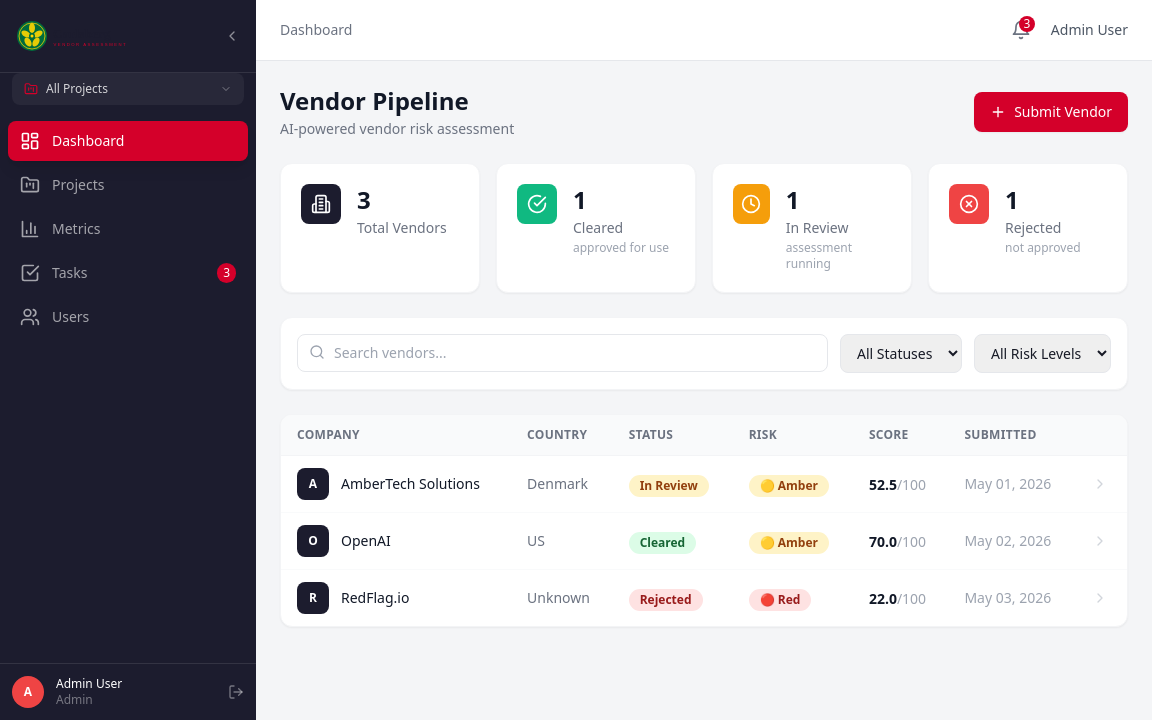
Scenario: DashboardPage › submit modal: advances to step 2 after lookup
The image size is (1152, 720).
Click the button "Submit Vendor": {"x": 1051, "y": 112} [974,92,1128,132]
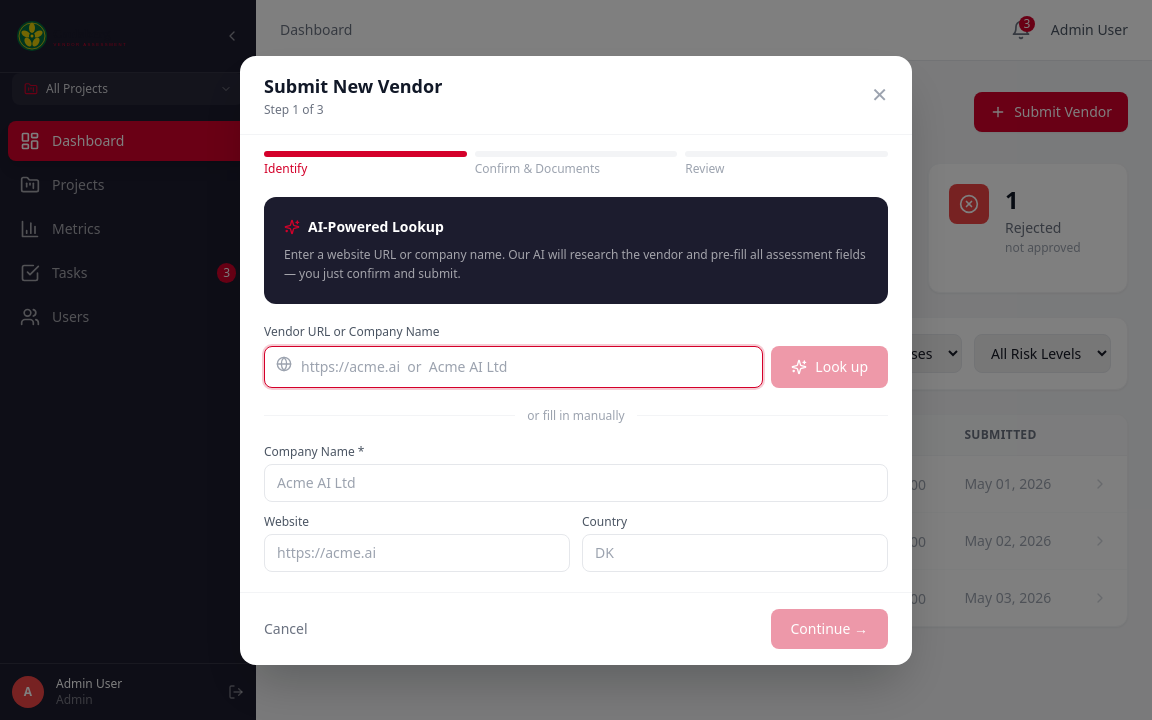
In the field with placeholder "Acme AI Ltd": {"x": 576, "y": 482} [264,464,888,502], type "TestCorp"
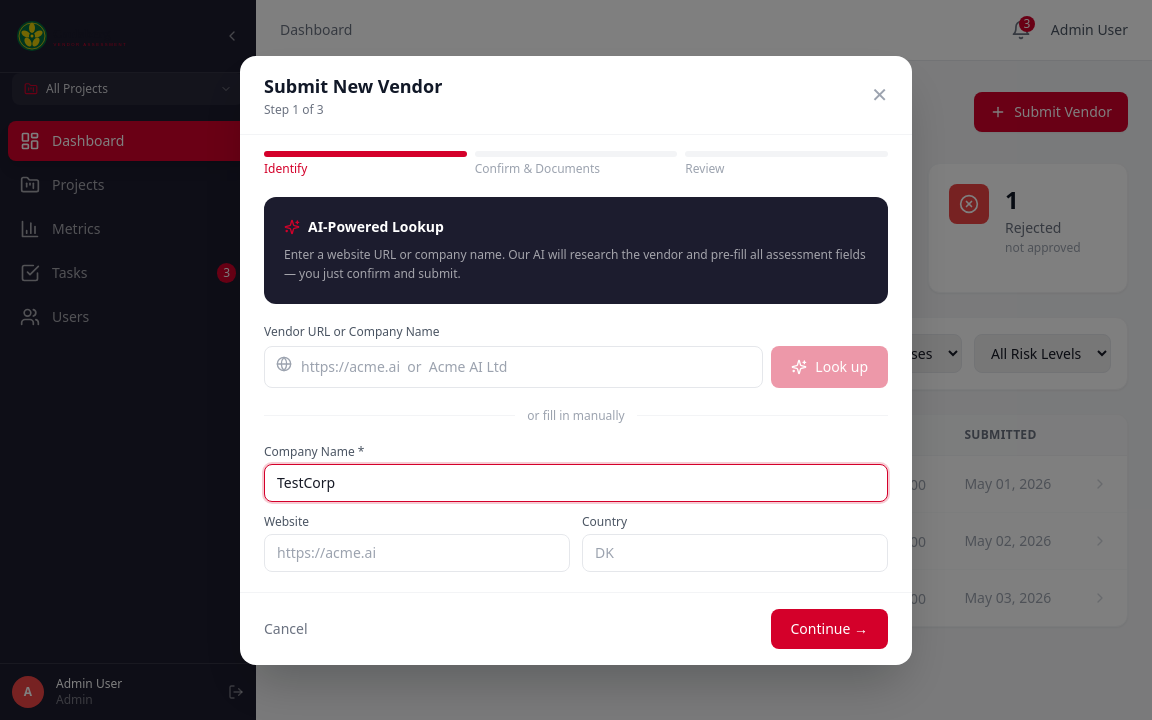
Click the button "Continue →": {"x": 829, "y": 628} [770,608,888,648]
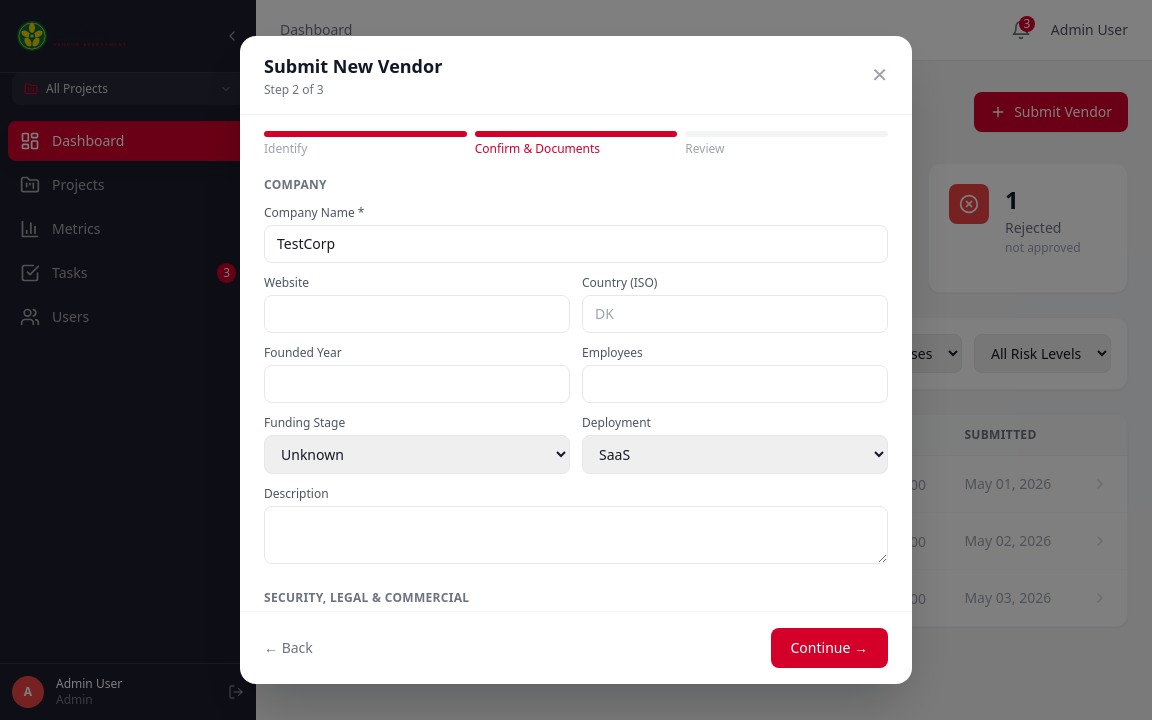
Result: the text "Step 2 of 3" is shown at [264,81,324,98]
